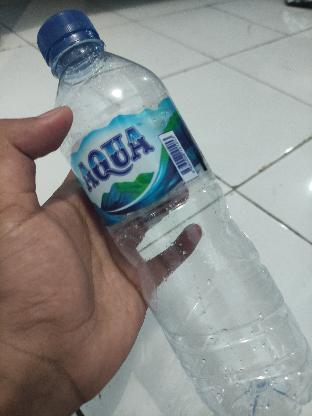Plastic Bottle: (35, 7, 312, 414)
